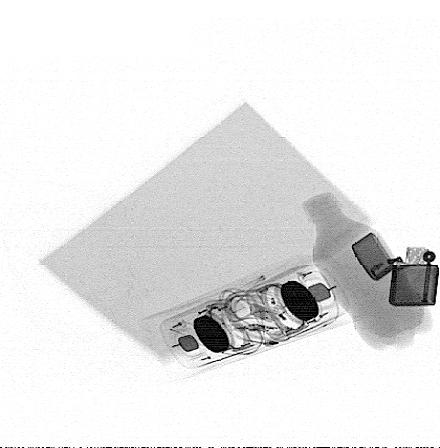Lighter: (350, 232, 439, 307)
